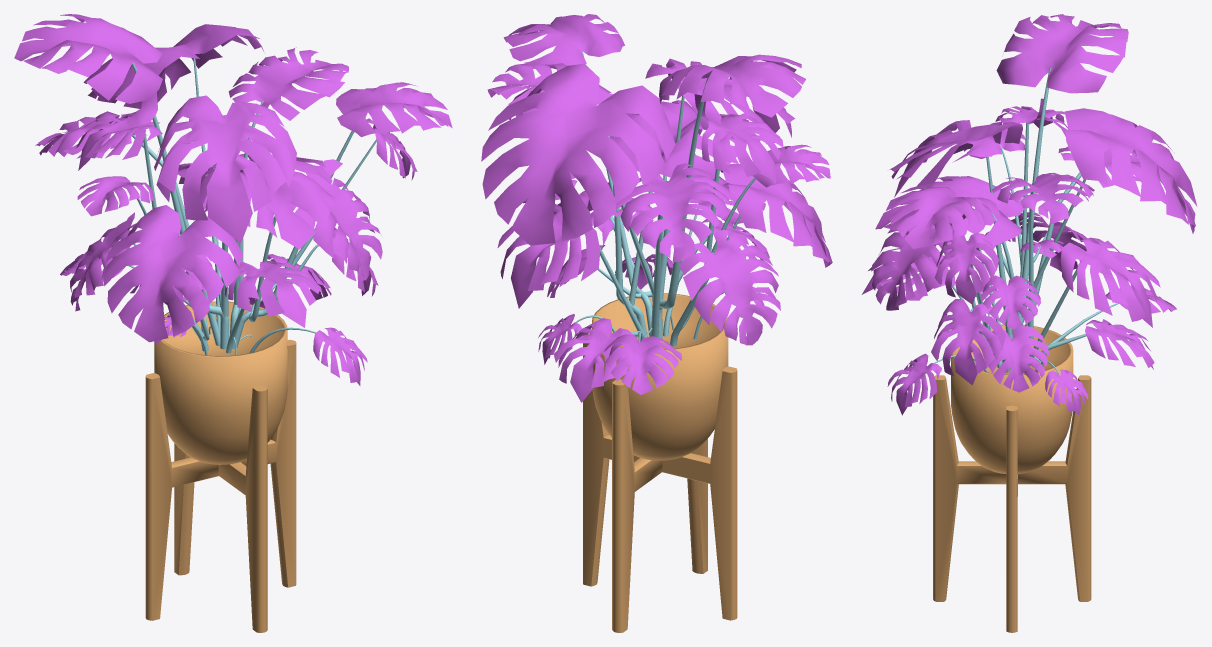
The model's file is monstera.dae.
The picture shows the model from 3 angles, left to right: view 1: azimuth 30°, elevation 25°; view 2: azimuth 150°, elevation 25°; view 3: azimuth 270°, elevation 25°; orthographic projection. The views are drawn at different scales.
Visible parts, largest first — view 1: root_HP_1.002; view 2: root_HP_1.002; view 3: root_HP_1.002.
Boxes of the visible parts, x1,y1,x2,y2 form: root_HP_1.002: (14,14,452,632); root_HP_1.002: (481,14,832,632); root_HP_1.002: (861,14,1197,632).
Bounding box in the file's own units: 1.01 × 0.9162 × 1.58.
